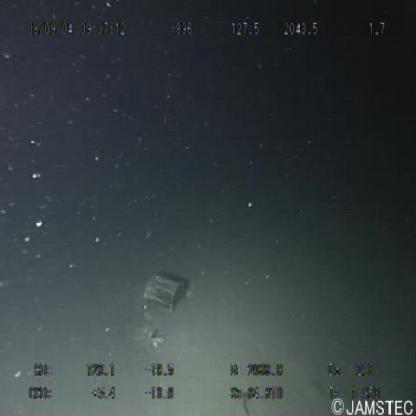Rác: (143, 272, 190, 316)
